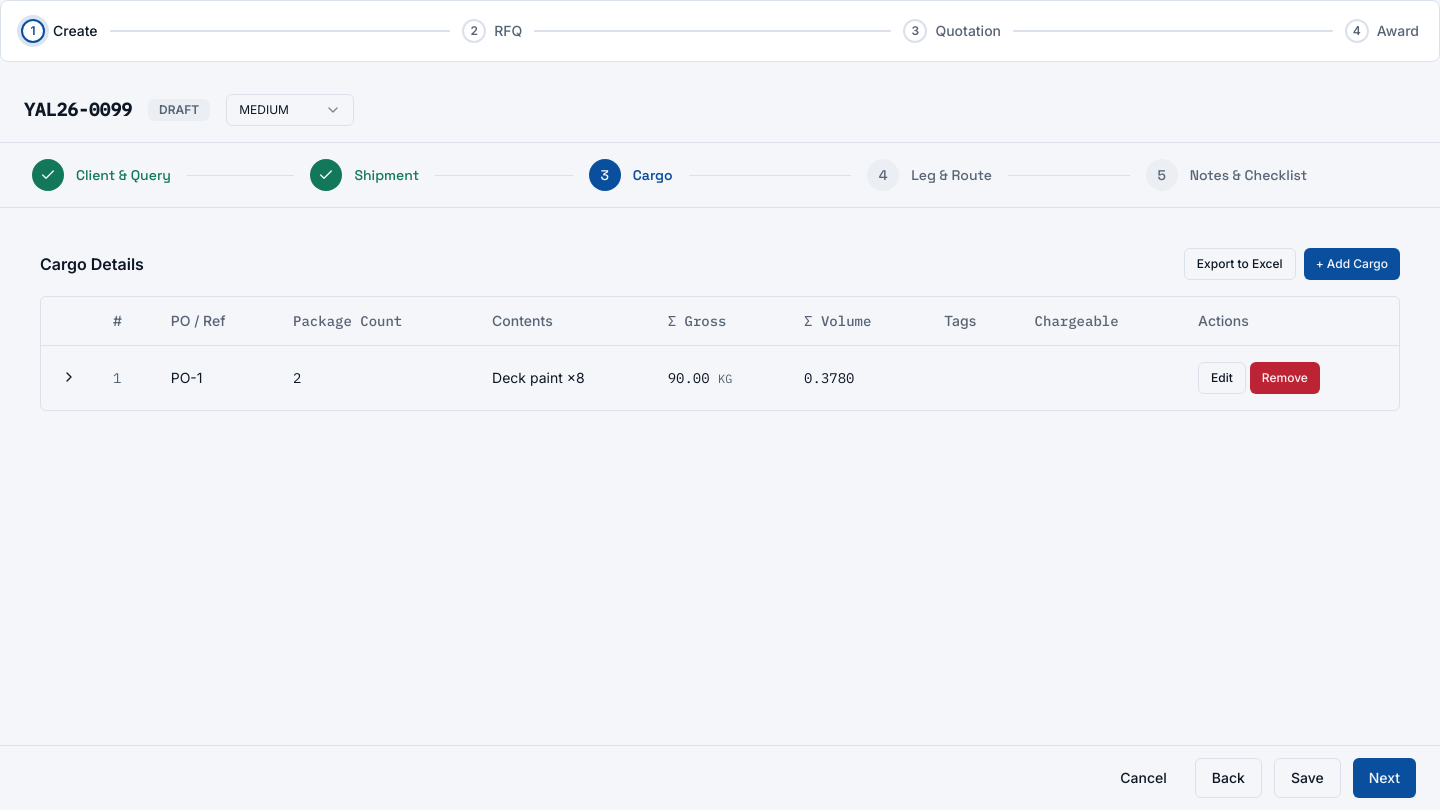
Test: Step3Cargo › Edit opens CargoPopup pre-filled with the cargo's own PO/label/units (Task 13)
Check: the text "YAL26-0099" is shown, box [24,98,132,121]
Click the button "3 Cargo".
click(631, 175)  # box [581,155,681,195]
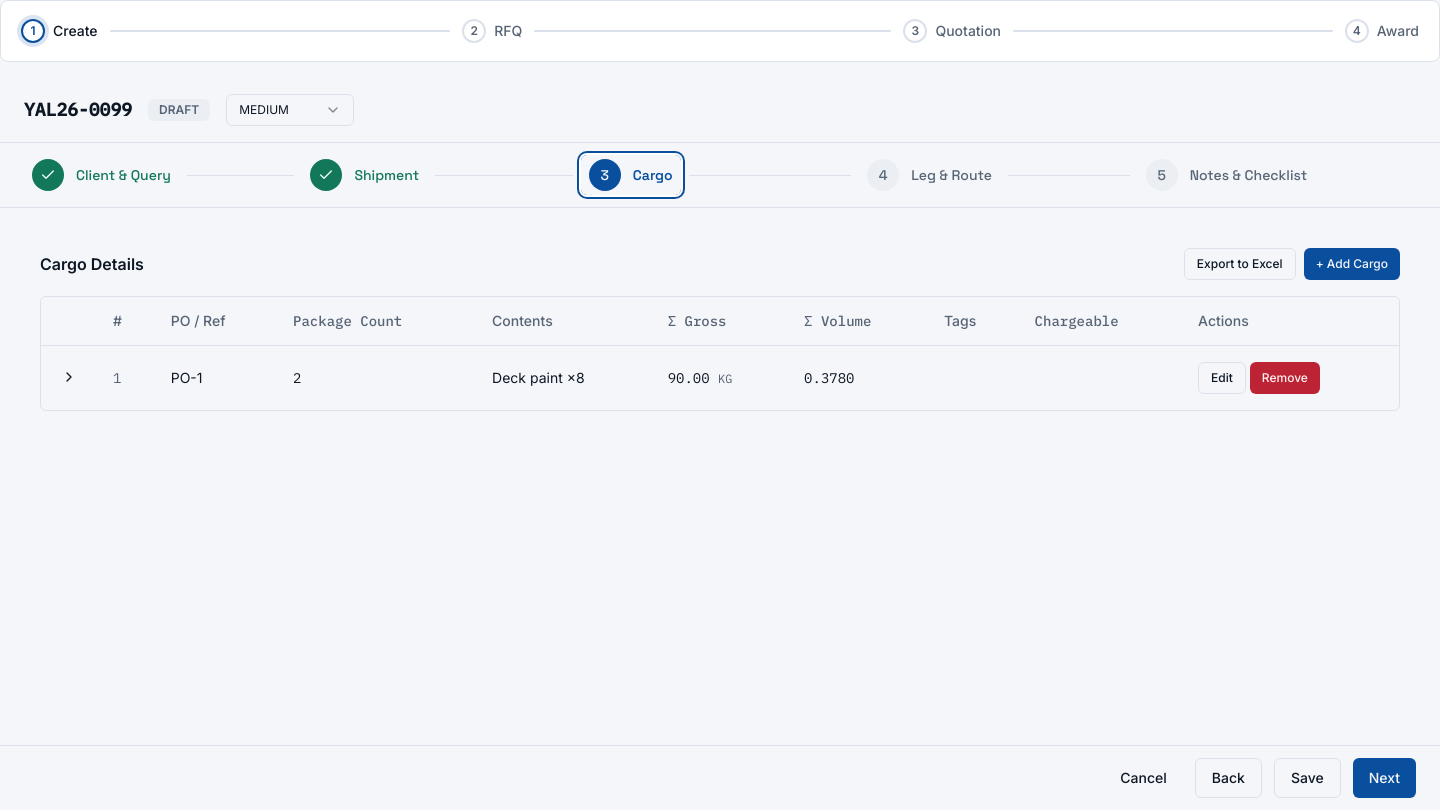
Check: the text "PO-1" is shown, box [155,345,277,410]
Click the button "Edit".
click(1222, 378)  # box [1198,362,1246,394]
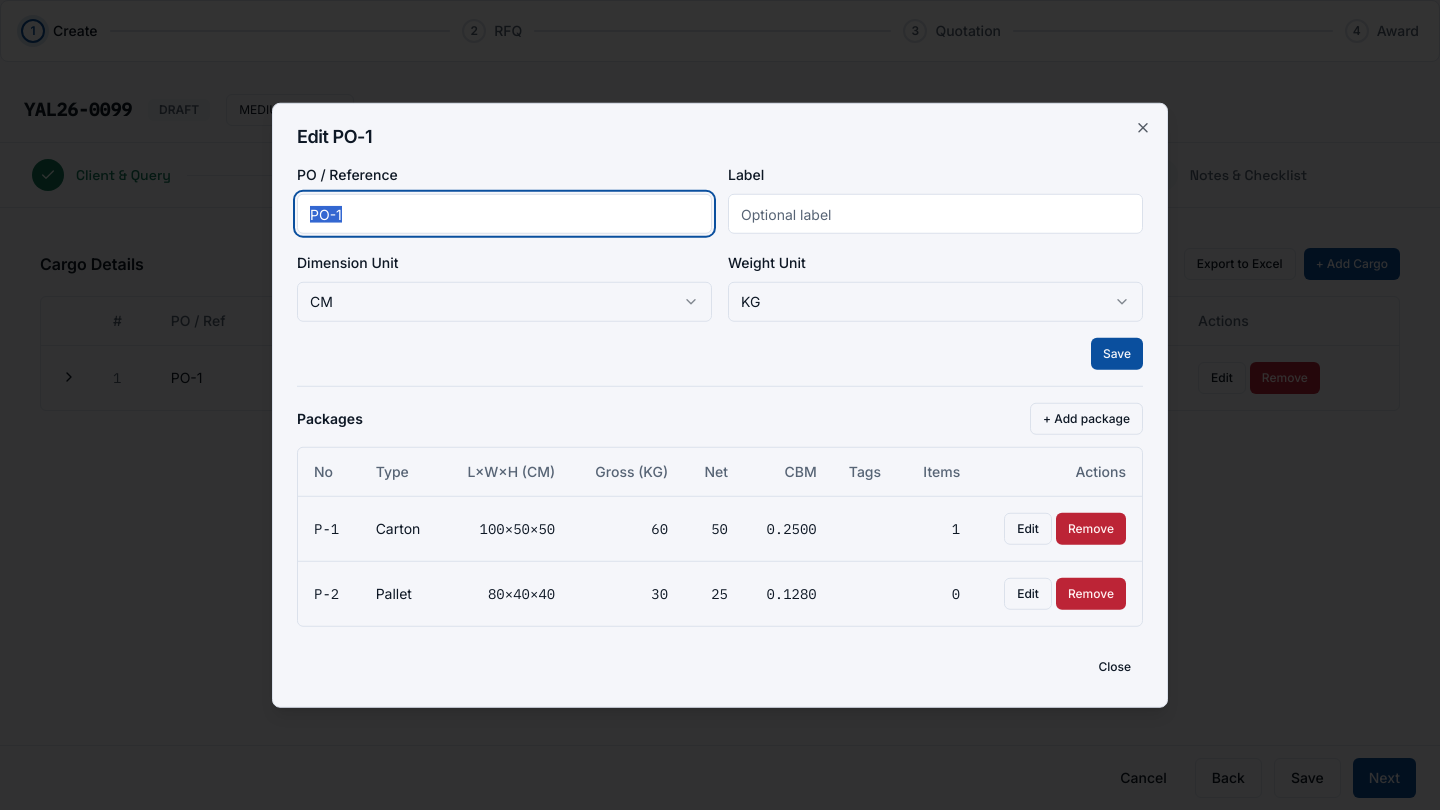
Check: the field showing "PO-1" is shown, box [297,194,712,234]
